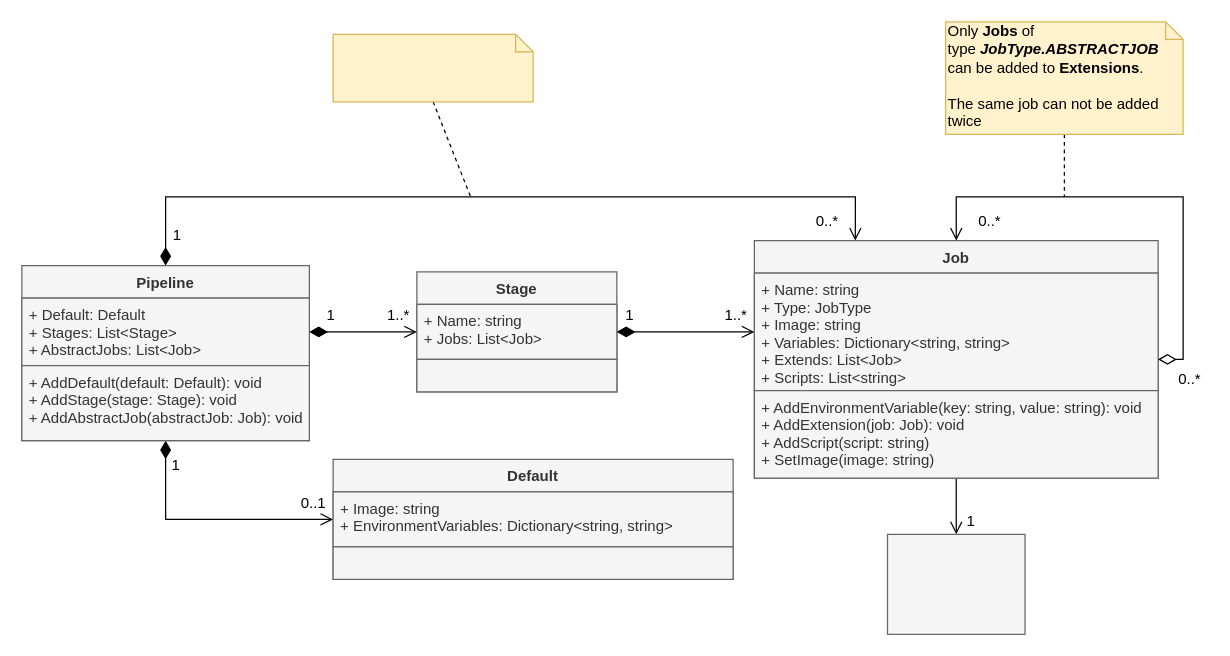
Some shapes in this 1230 by 656 pixel diagram are drawn without their labels. The shapes that lost their labels are listed below. From the top down, each one's centre as x and y in pixels, then its label:
[432,67]: Pipeline can only contain Jobs of type: JobType.ABSTRACTJOB .
[516,375]: + AddJob(job: Job): void
[532,562]: + AddEnvironmentVariable(key: string, value: string): void
[955,583]: <<Enumeration>> JobType JOB ABSTRACTJOB
